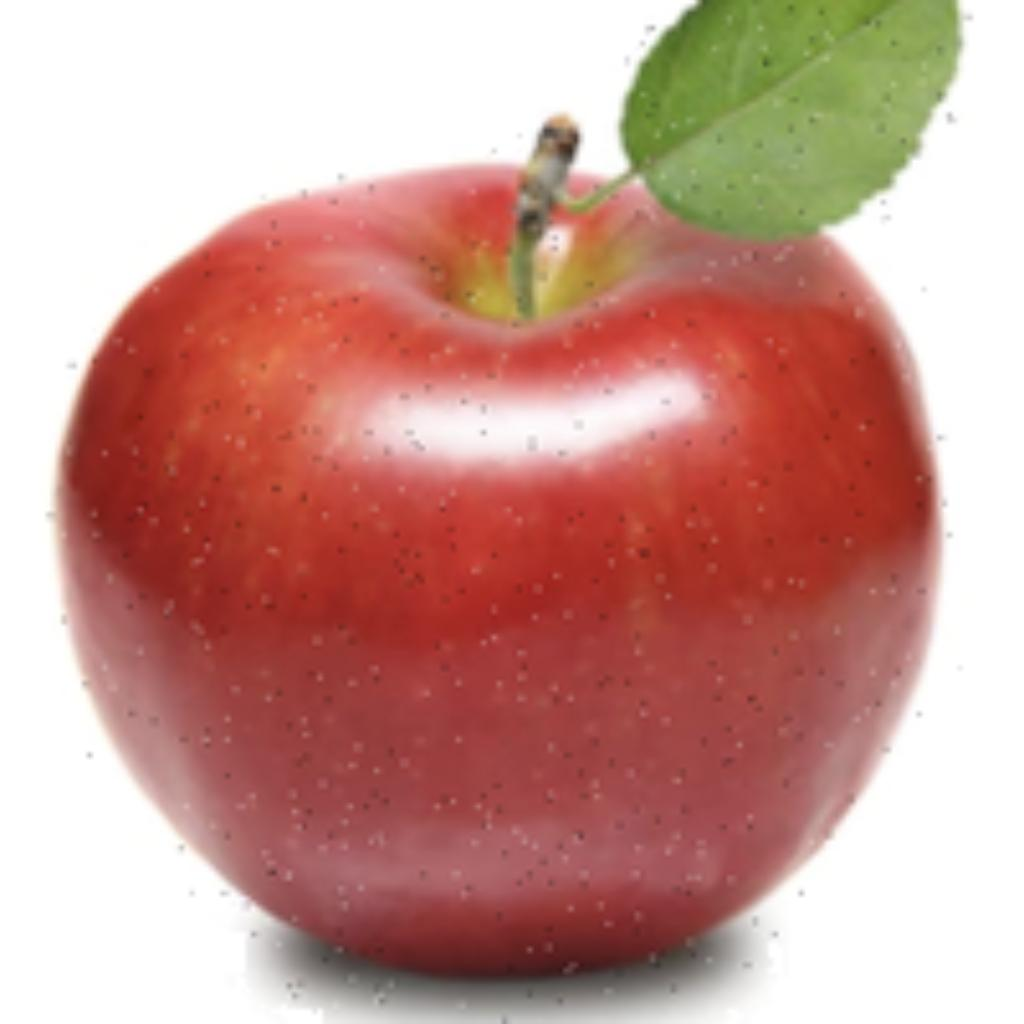apple: (41, 0, 973, 1019)
